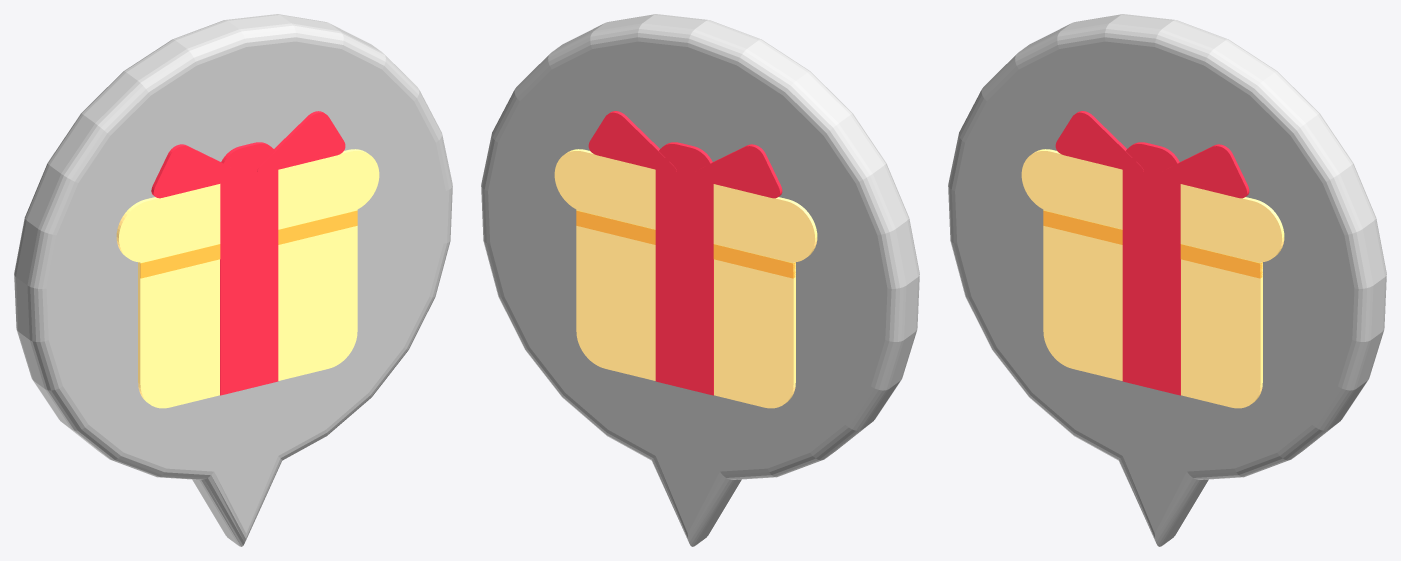
Rendered from gift.glb.
The picture shows the model from 3 angles, left to right: view 1: azimuth 30°, elevation 25°; view 2: azimuth 150°, elevation 25°; view 3: azimuth 330°, elevation 25°; orthographic projection.
Visible parts, largest first — view 1: EmotionBubble; view 2: EmotionBubble; view 3: EmotionBubble.
Boxes of the visible parts, x1,y1,x2,y2 form: EmotionBubble: (14,14,452,546); EmotionBubble: (481,14,919,546); EmotionBubble: (948,14,1386,546).
Bounding box in the file's own units: 5.29 × 6.16 × 0.7.
